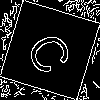C: (24, 24, 82, 79)
